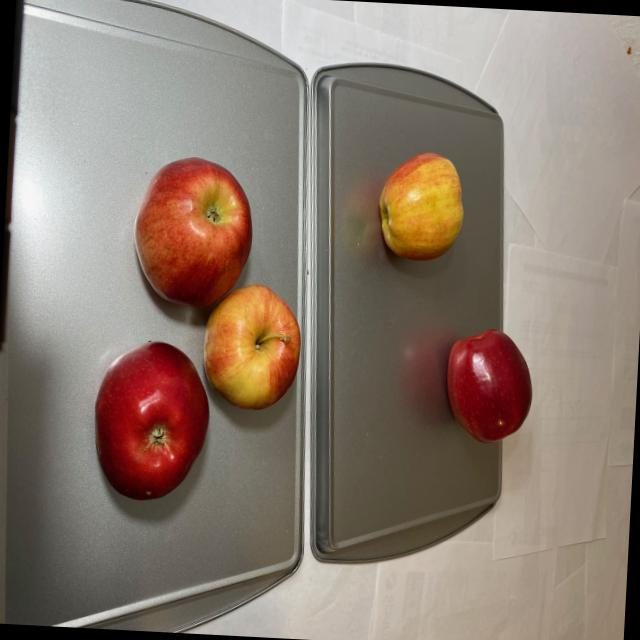apple: (90, 153, 308, 512), (442, 323, 536, 446), (375, 148, 467, 265)
